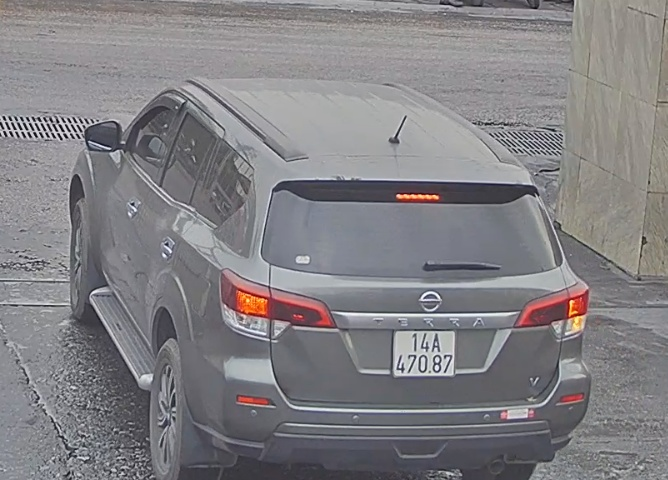vehicle plate: (387, 323, 459, 380)
